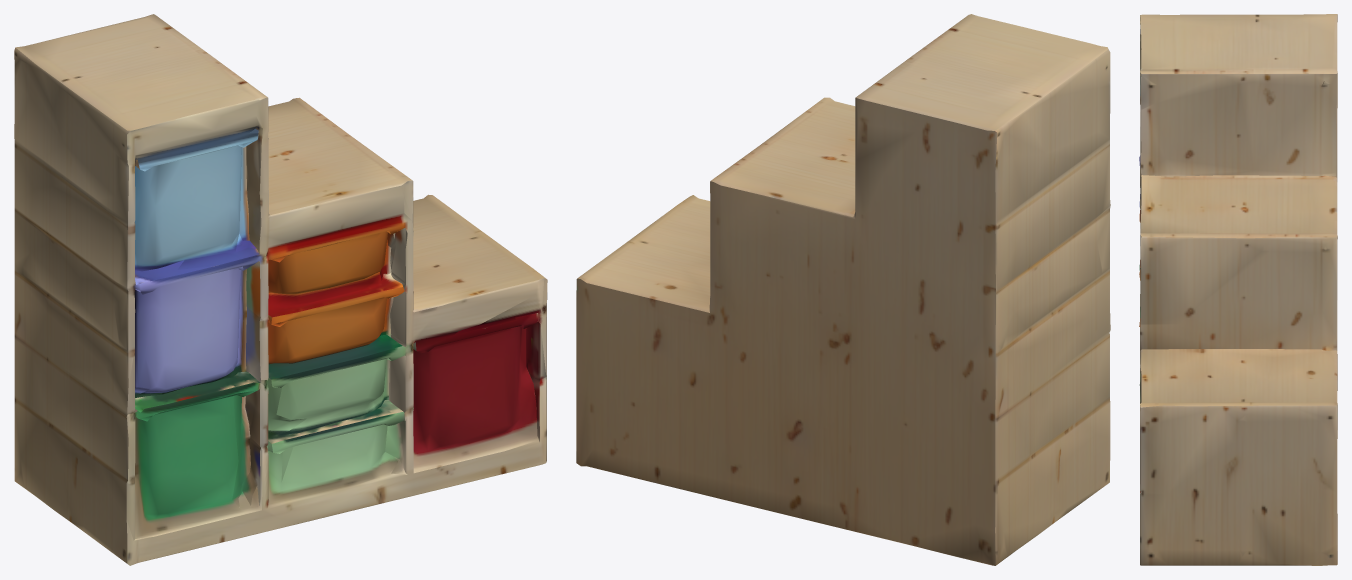
Rendered from BacJouet3_3D_textured.glb.
The picture shows the model from 3 angles, left to right: view 1: azimuth 30°, elevation 25°; view 2: azimuth 150°, elevation 25°; view 3: azimuth 270°, elevation 25°; orthographic projection. The views are drawn at different scales.
Visible parts, largest first — view 1: temp_mesh.ply; view 2: temp_mesh.ply; view 3: temp_mesh.ply.
Boxes of the visible parts, x1,y1,x2,y2 form: temp_mesh.ply: (14, 14, 547, 565); temp_mesh.ply: (576, 14, 1110, 565); temp_mesh.ply: (1139, 14, 1337, 565).
Bounding box in the file's own units: 1.98 × 1.98 × 0.9305.
Materials: 1 (1 with a texture image).
